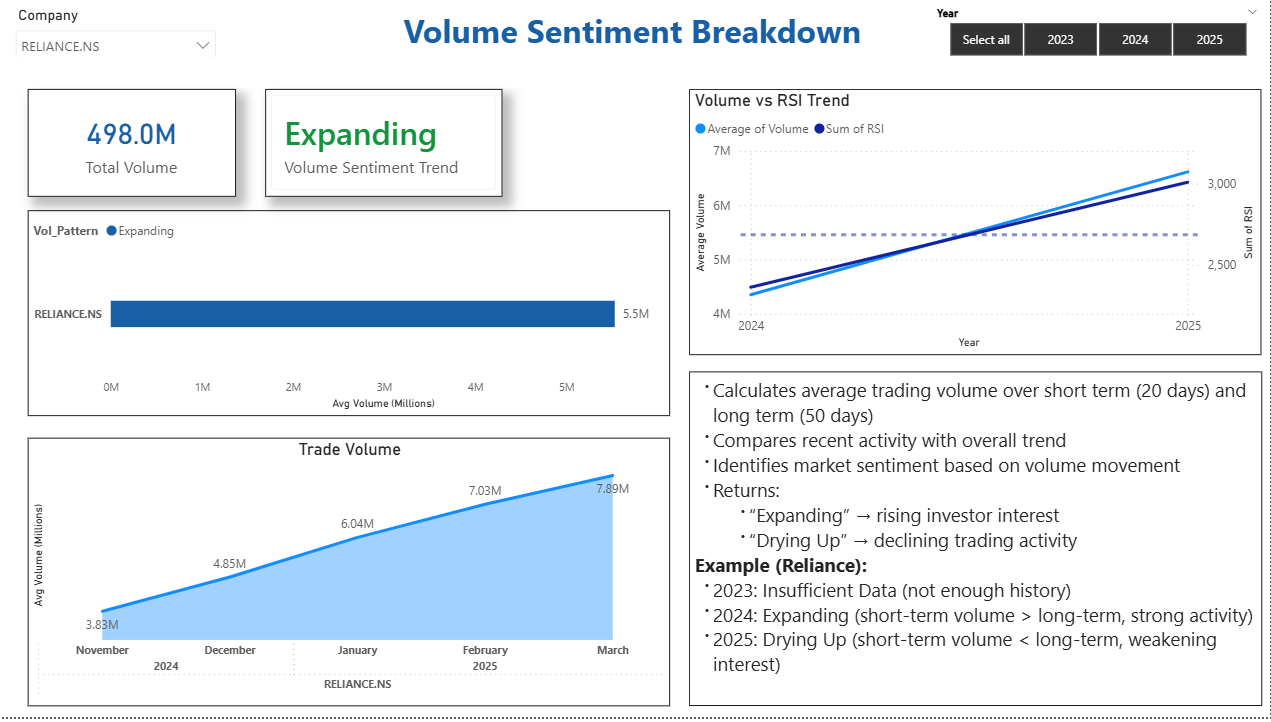

This screenshot's page, from the dashboard's own definition file:
{"tool":"powerbi","page":{"name":"Panel 4","canvas":[1280,720],"ordinal":4},"visuals":[{"type":"card","fields":{"Values":["Sum(Fact_Technicals.Volume)"]},"box":[43.9,94.7,207.2,107],"z":0},{"type":"cardVisual","fields":{"Data":["Fact_Technicals.2_Volume_Sentiment_Trend"]},"box":[279.9,94.7,236,107],"z":1000},{"type":"textbox","box":[701.4,375.7,570,332.9],"z":2000},{"type":"textbox","box":[19.4,10.4,1250.7,83.6],"z":3000},{"type":"slicer","fields":{"Values":["Dim_Company.Ticker"]},"box":[20.6,6.9,219.6,54.9],"z":4000},{"type":"clusteredBarChart","fields":{"Y":["Avg(Fact_Technicals.Volume)"],"Category":["Dim_Company.Ticker"],"Series":["Fact_Technicals.Vol_Pattern"]},"box":[43.9,215.4,639.5,204.5],"z":5000},{"type":"lineChart","title":"Volume vs RSI Trend","fields":{"Category":["Dim_Date.Date.Variation.Date Hierarchy.Year","Dim_Date.Date.Variation.Date Hierarchy.Quarter","Dim_Date.Date.Variation.Date Hierarchy.Month","Dim_Date.Date.Variation.Date Hierarchy.Day"],"Y":["Avg(Fact_Technicals.Volume)"],"Y2":["Sum(Fact_Technicals.RSI)"]},"box":[701.2,94.7,569.5,264.8],"z":6000},{"type":"slicer","fields":{"Values":["Dim_Date.Year"]},"box":[935.6,6.9,344.4,60.4],"z":7000},{"type":"areaChart","title":"Trade Volume","fields":{"Category":["Dim_Company.Ticker","Dim_Date.Date.Variation.Date Hierarchy.Year","Dim_Date.Date.Variation.Date Hierarchy.Month"],"Y":["Avg(Fact_Technicals.Volume)"]},"box":[43.9,441.9,639.5,267.6],"z":8000}]}

Visuals, with their boxes in screenshot pixels (x1, y1, x2, y2), scaled from the page's 1280x720 canvas onto the 1271x722 screenshot:
card - Sum(Fact_Technicals.Volume): pyautogui.locateOnScreen(44, 95, 249, 202)
cardVisual - Fact_Technicals.2_Volume_Sentiment_Trend: pyautogui.locateOnScreen(278, 95, 512, 202)
textbox: pyautogui.locateOnScreen(696, 377, 1262, 711)
textbox: pyautogui.locateOnScreen(19, 10, 1261, 94)
slicer - Dim_Company.Ticker: pyautogui.locateOnScreen(20, 7, 239, 62)
clusteredBarChart - Avg(Fact_Technicals.Volume) x Dim_Company.Ticker: pyautogui.locateOnScreen(44, 216, 679, 421)
"Volume vs RSI Trend" lineChart: pyautogui.locateOnScreen(696, 95, 1262, 360)
slicer - Dim_Date.Year: pyautogui.locateOnScreen(929, 7, 1270, 67)
"Trade Volume" areaChart: pyautogui.locateOnScreen(44, 443, 679, 711)
